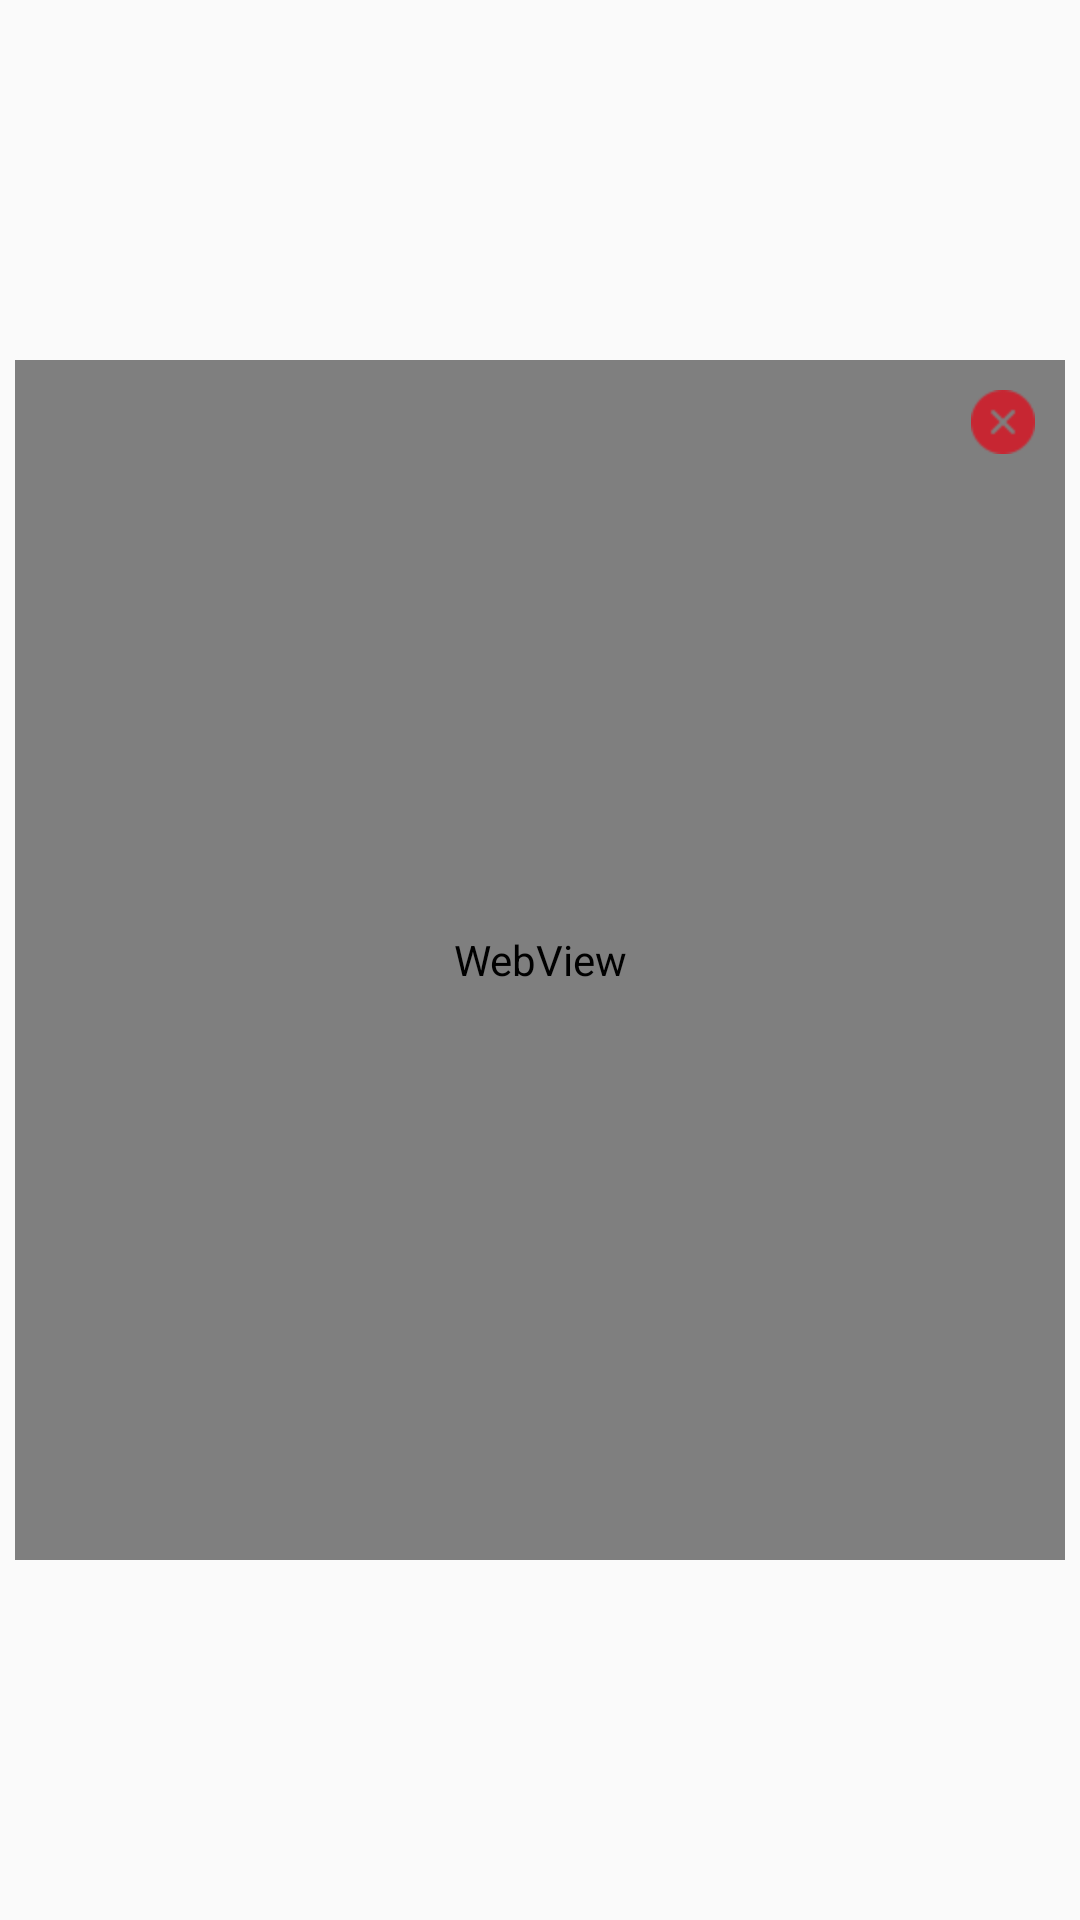

Icon click points for this 1080px×1920px phone screenshot, format [x,y]:
close: [1003,422]
